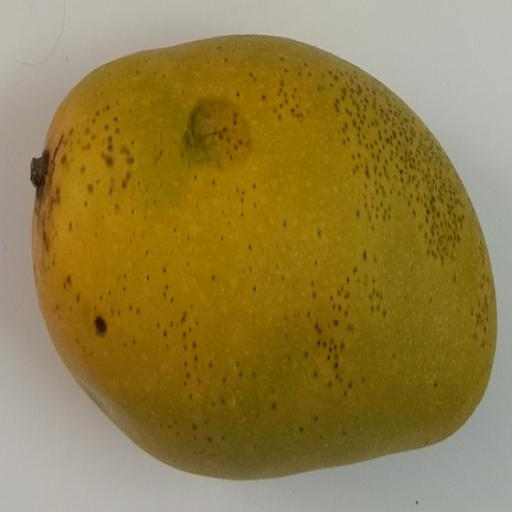mango-ripe: (18, 40, 491, 474)
